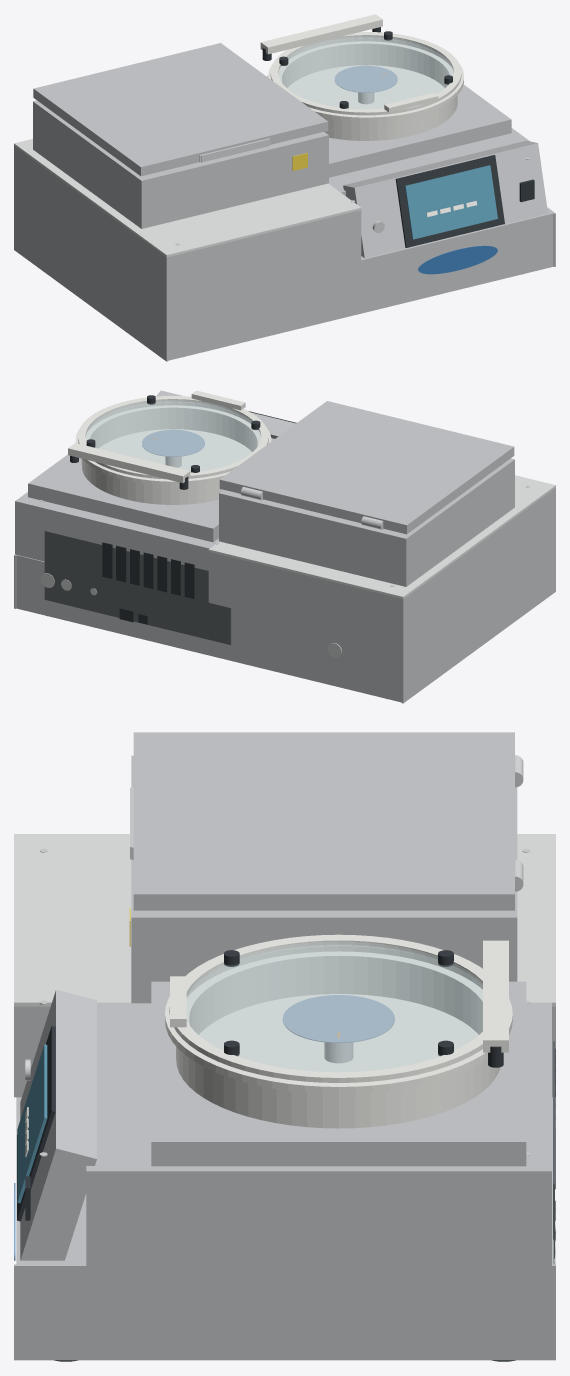
The model's file is cee-200cbx.glb.
3 renders of one model, top to bottom at view 1: azimuth 30°, elevation 25°; view 2: azimuth 150°, elevation 25°; view 3: azimuth 270°, elevation 25°, orthographic. The views are drawn at different scales.
Parts seen in each view (by area): view 1: chassis, bake_lid_panel, left_upper_housing, bake_enclosure, clear_spin_cover, top_deck, front_console, spin_bowl_wall, spin_mount, touchscreen_7inch, spin_bowl_floor, chassis_edge_-354 (+9 smaller); view 2: bake_lid_panel, left_upper_housing, bake_enclosure, chassis, rear_service_panel, clear_spin_cover, chassis_edge_-354, spin_bowl_wall, spin_mount, right_upper_housing, top_deck, spin_bowl_floor (+7 smaller); view 3: bake_lid_panel, chassis, right_upper_housing, clear_spin_cover, top_deck, spin_mount, spin_bowl_wall, right_upper_deck, chassis_edge_354, bake_enclosure, front_console, spin_bowl_floor (+8 smaller).
Boxes of the visible parts, left/top/right/bottom form: chassis: left=14, top=204, right=553, bottom=360; bake_lid_panel: left=33, top=43, right=328, bottom=176; left_upper_housing: left=14, top=146, right=361, bottom=308; bake_enclosure: left=33, top=100, right=328, bottom=228; clear_spin_cover: left=278, top=36, right=453, bottom=108; top_deck: left=14, top=139, right=361, bottom=257; front_console: left=343, top=140, right=547, bottom=258; spin_bowl_wall: left=278, top=41, right=457, bottom=140; spin_mount: left=266, top=76, right=511, bottom=177; touchscreen_7inch: left=405, top=165, right=497, bottom=239; spin_bowl_floor: left=287, top=65, right=444, bottom=109; chassis_edge_-354: left=14, top=197, right=168, bottom=361; bake_lid_panel: left=219, top=401, right=514, bottom=534; left_upper_housing: left=208, top=488, right=555, bottom=649; bake_enclosure: left=219, top=458, right=514, bottom=586; chassis: left=15, top=554, right=401, bottom=702; rear_service_panel: left=44, top=530, right=231, bottom=644; clear_spin_cover: left=86, top=400, right=260, bottom=472; chassis_edge_-354: left=401, top=539, right=555, bottom=703; spin_bowl_wall: left=81, top=405, right=260, bottom=504; spin_mount: left=28, top=440, right=272, bottom=542; right_upper_housing: left=15, top=503, right=208, bottom=570; top_deck: left=208, top=475, right=555, bottom=598; spin_bowl_floor: left=99, top=429, right=251, bottom=472; bake_lid_panel: left=133, top=732, right=514, bottom=910; chassis: left=16, top=1097, right=553, bottom=1360; right_upper_housing: left=86, top=1175, right=551, bottom=1265; clear_spin_cover: left=187, top=942, right=482, bottom=1071; top_deck: left=14, top=834, right=555, bottom=1006; spin_mount: left=151, top=981, right=526, bottom=1166; spin_bowl_wall: left=176, top=951, right=500, bottom=1128; right_upper_deck: left=86, top=1002, right=551, bottom=1175; chassis_edge_354: left=14, top=1264, right=555, bottom=1360; bake_enclosure: left=131, top=755, right=517, bottom=1003; front_console: left=20, top=989, right=96, bottom=1260; spin_bowl_floor: left=199, top=994, right=478, bottom=1072.
Size of the model in its own units: 0.711 by 0.305 by 0.483.
